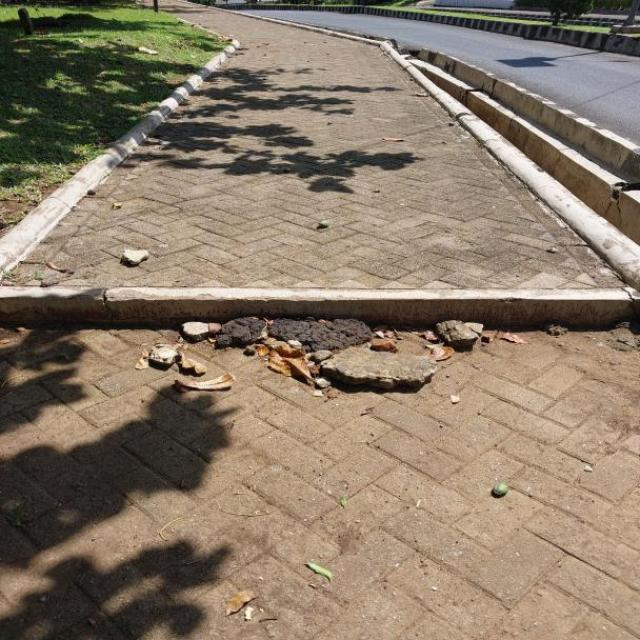stones ahead at: (157, 314, 491, 398)
